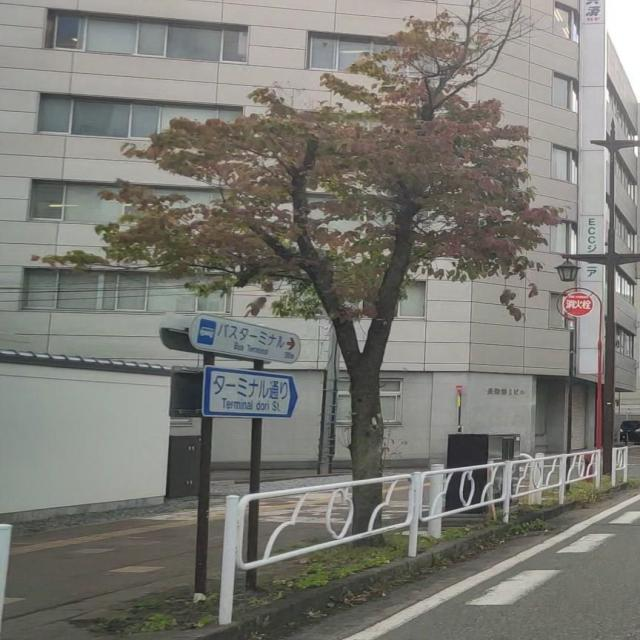dogwood: (30, 0, 572, 547)
